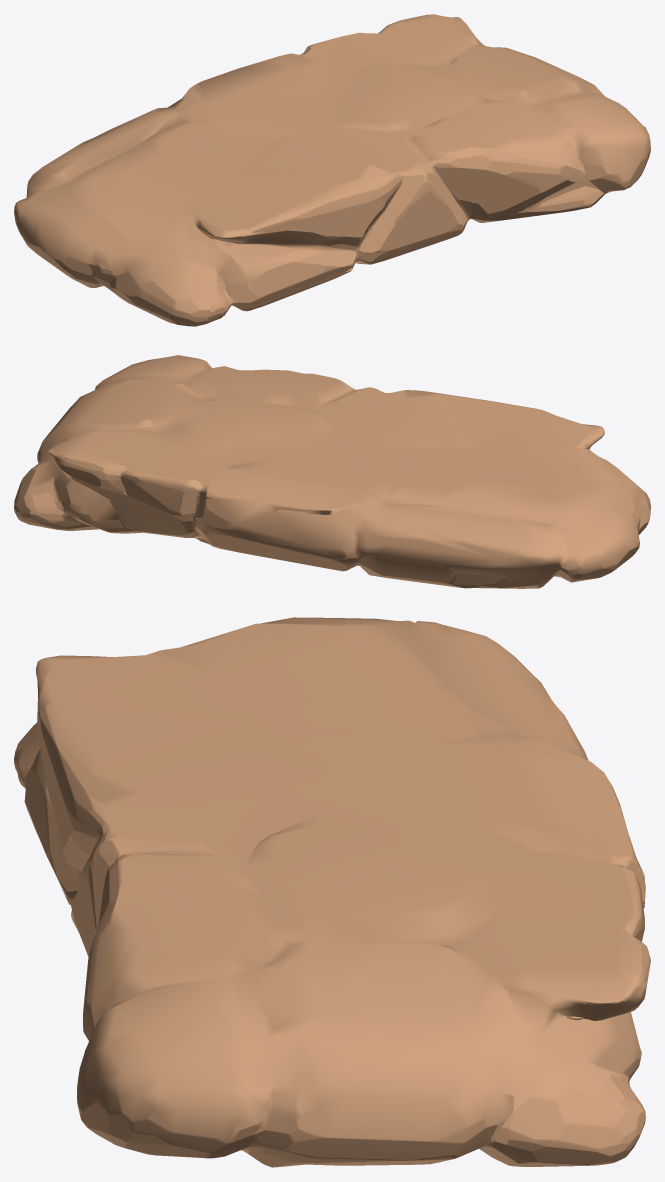
The picture shows the model from 3 angles, top to bottom: view 1: azimuth 30°, elevation 25°; view 2: azimuth 150°, elevation 25°; view 3: azimuth 270°, elevation 25°; orthographic projection. The views are drawn at different scales.
Visible parts, largest first — view 1: Mesh_57_LOD0; view 2: Mesh_57_LOD0; view 3: Mesh_57_LOD0.
Boxes of the visible parts, <box> form: Mesh_57_LOD0: <box>14,14,650,326</box>; Mesh_57_LOD0: <box>14,355,650,588</box>; Mesh_57_LOD0: <box>14,617,650,1167</box>.
Size of what is drawn, in the model's own units: 3922 by 627 by 2173.
